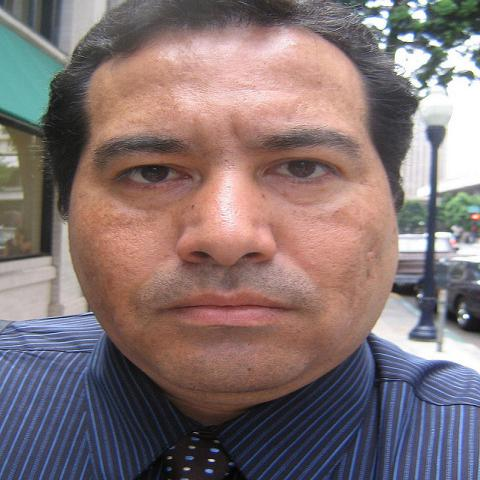car: (410, 254, 479, 331), (433, 230, 458, 246)
truck: (391, 232, 460, 298)
